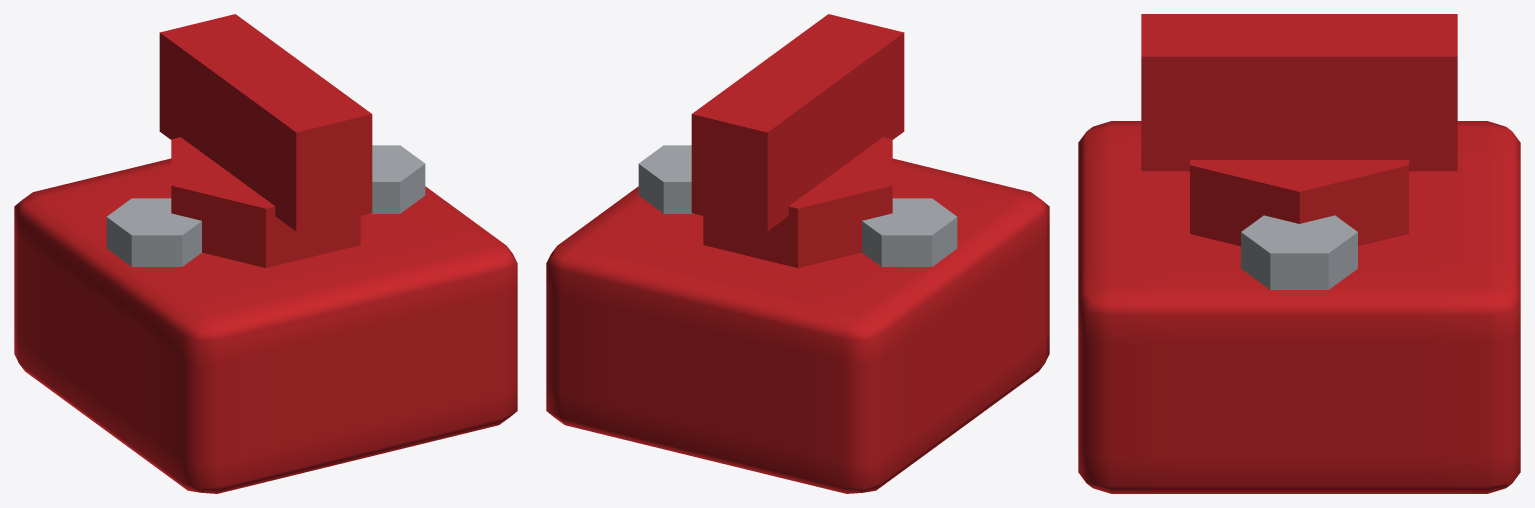
File: battery_switch_blue_sea_6006.mid.glb
3 views of the same model, side by side, from view 1: azimuth 30°, elevation 25°; view 2: azimuth 150°, elevation 25°; view 3: azimuth 270°, elevation 25° (orthographic). The views are drawn at different scales.
Visible parts, largest first — view 1: battery_switch_blue_sea_6006, knob; view 2: battery_switch_blue_sea_6006, knob; view 3: battery_switch_blue_sea_6006, knob.
Part boxes in pixels (box(x1,y1,x2,y2)): battery_switch_blue_sea_6006: box(14, 145, 517, 493); knob: box(159, 14, 372, 267); battery_switch_blue_sea_6006: box(546, 145, 1049, 493); knob: box(691, 14, 904, 267); battery_switch_blue_sea_6006: box(1078, 121, 1520, 493); knob: box(1141, 14, 1457, 246).
Bounding box in the file's own units: 0.07 × 0.065 × 0.07.
